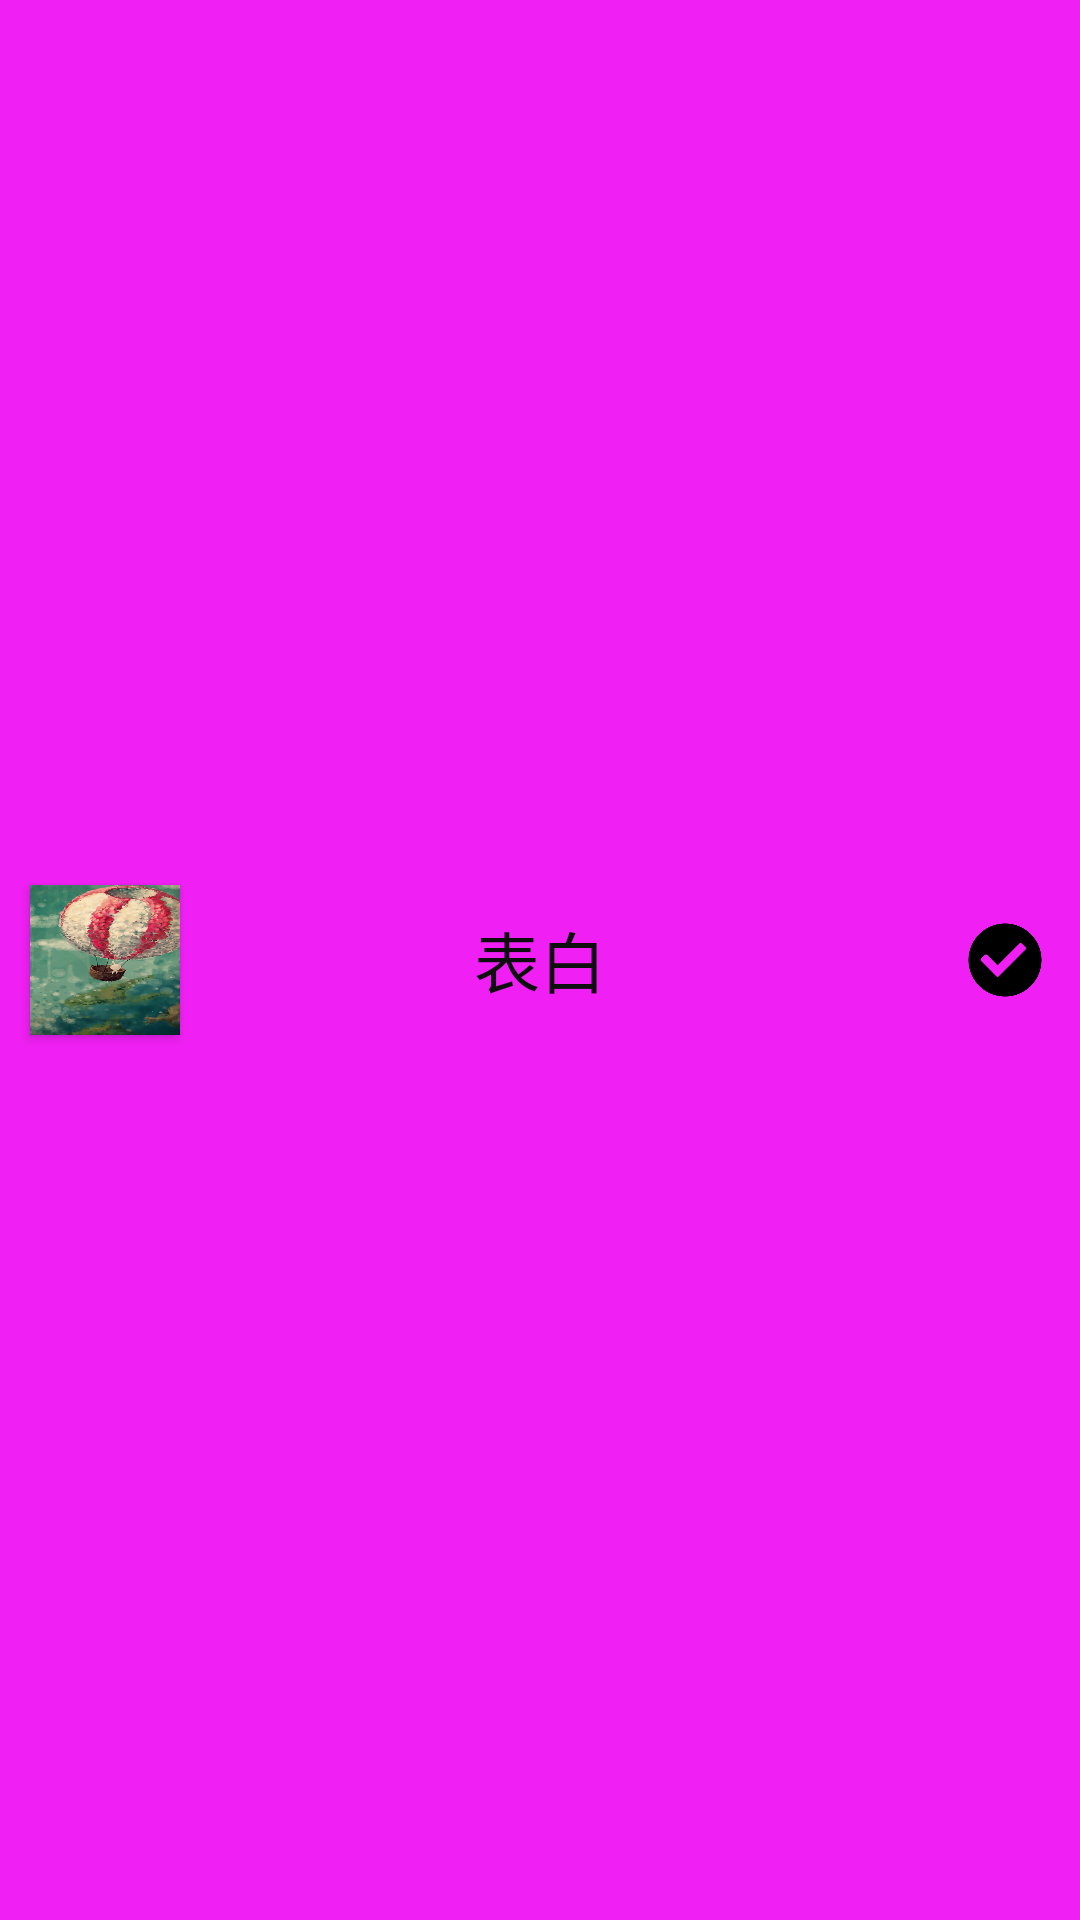

Icon bounding boxes for this 1080x1920 phone screenshot, format (x1, y1, x2, y2):
sure: (968, 923, 1042, 997)
